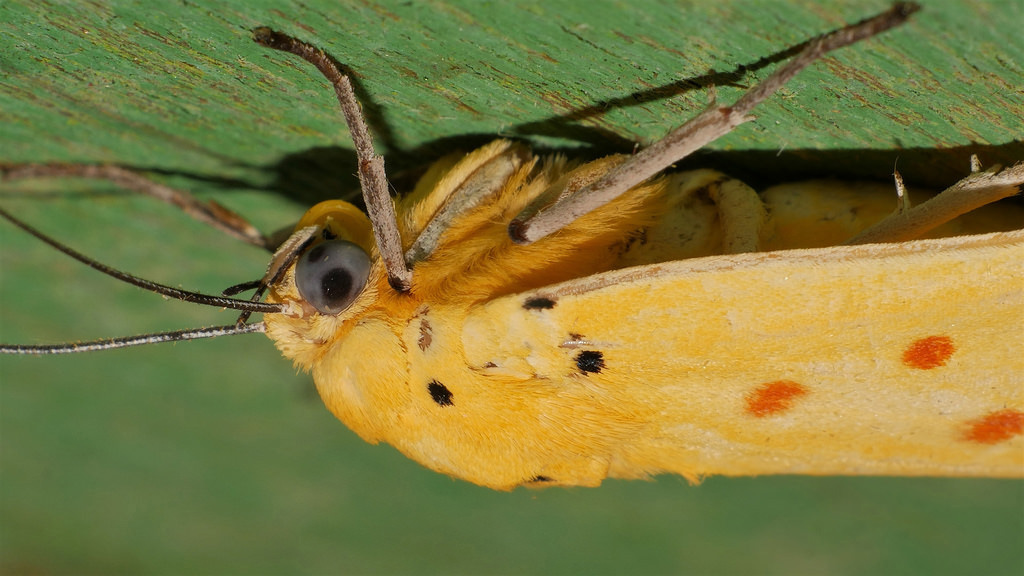Agape chloropyga: (6, 2, 1024, 498)
moth: (6, 1, 1024, 496)
